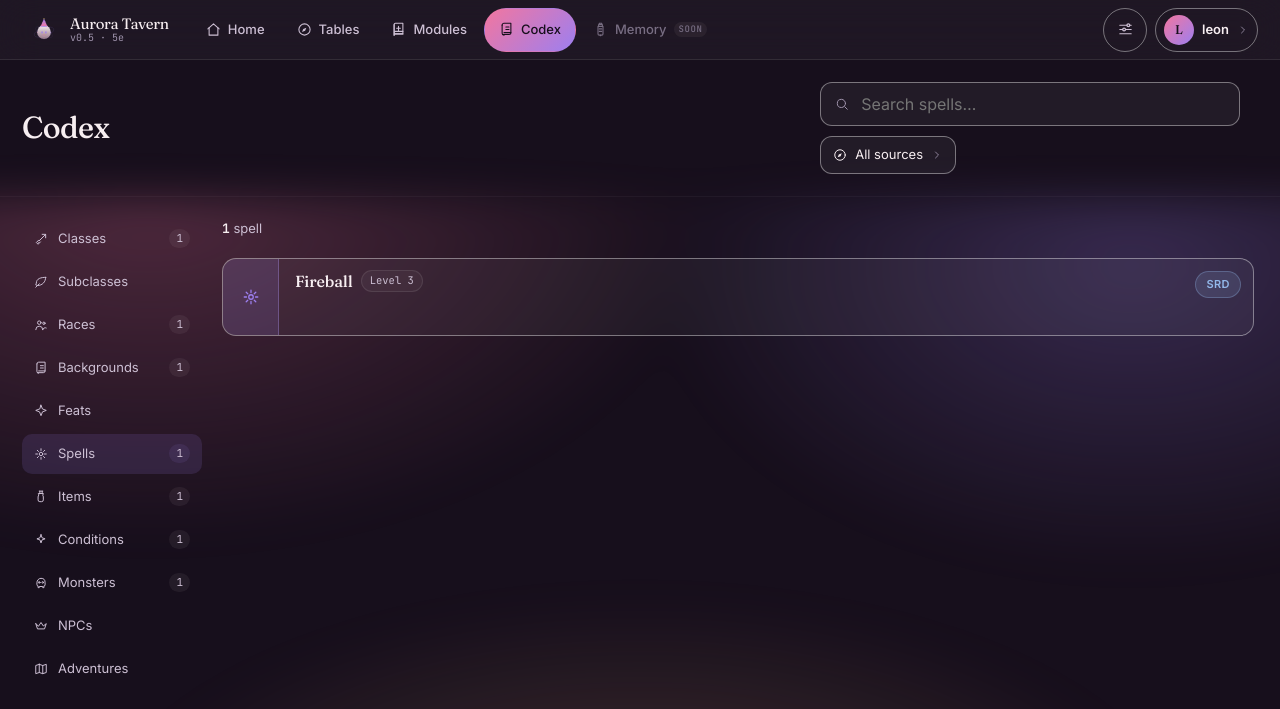
it: search abuse (UI wiring) › an emoji/ZWJ query does not crash the list and correctly finds no match
Expected: the option "Fireball Level 3 SRD" is shown, [222,258,1254,336]
Type "🔥‍👨‍👩‍👧‍👦" into the search field labelled "Search spells…" at (1042, 104), box [859,91,1225,117]
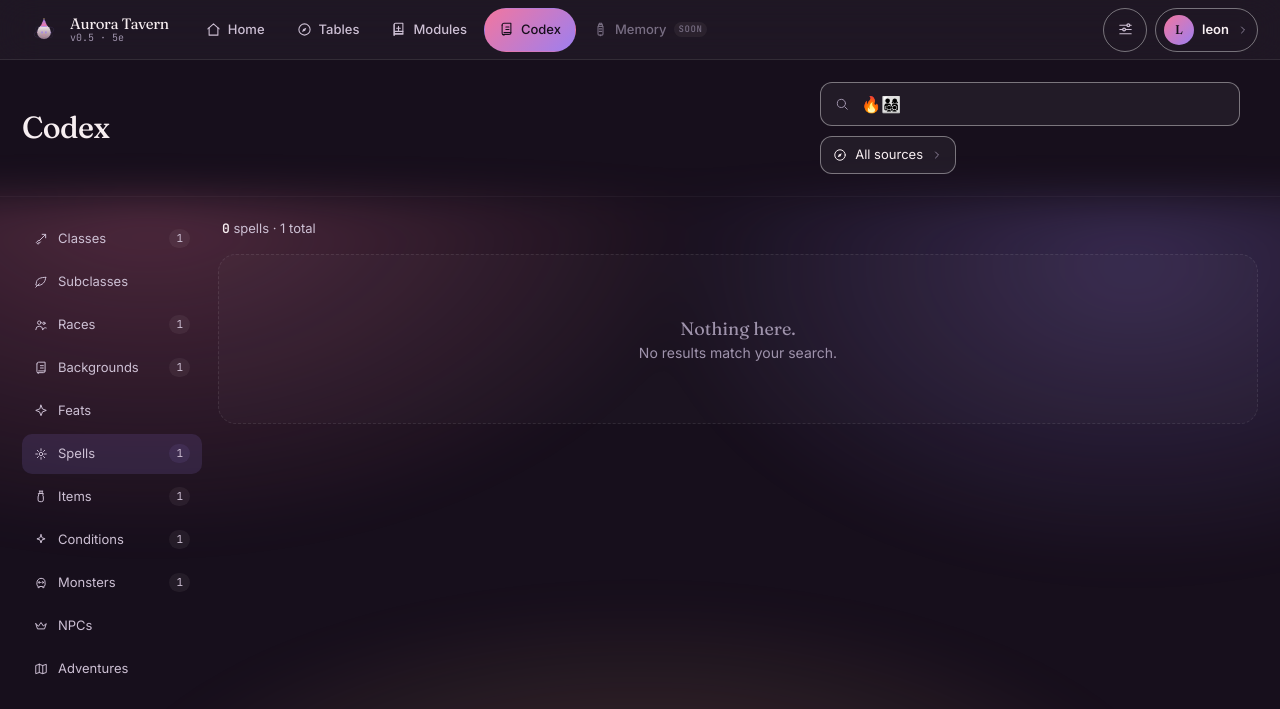
Result: the text "No results match your search." is shown at [639,344,837,361]
